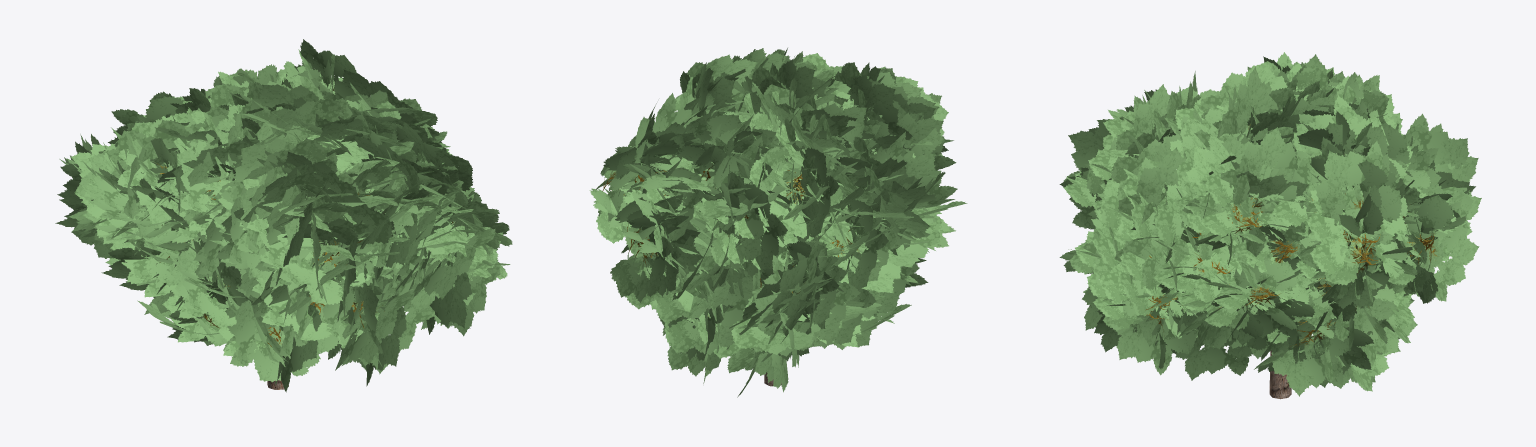
File: Bush 2.fbx
The picture shows the model from 3 angles, left to right: view 1: azimuth 30°, elevation 25°; view 2: azimuth 150°, elevation 25°; view 3: azimuth 270°, elevation 25°; orthographic projection. The views are drawn at different scales.
Visible parts, largest first — view 1: Bush; view 2: Bush; view 3: Bush.
Boxes of the visible parts, box(x1,y1,x2,y2) form: Bush: box(55, 39, 512, 392); Bush: box(589, 48, 967, 397); Bush: box(1059, 52, 1481, 399).
Bounding box in the file's own units: 350 × 309 × 389.
